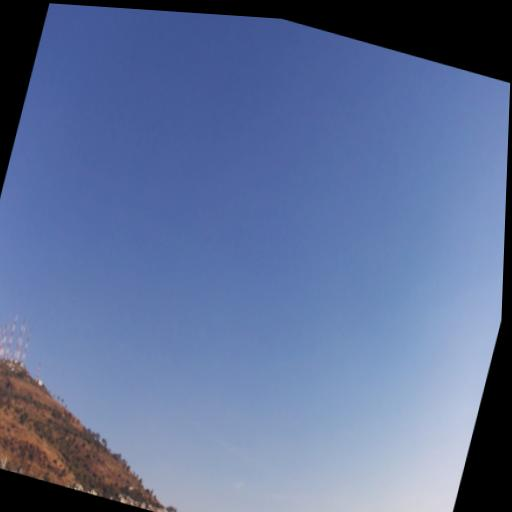drones: (217, 319, 231, 337)
